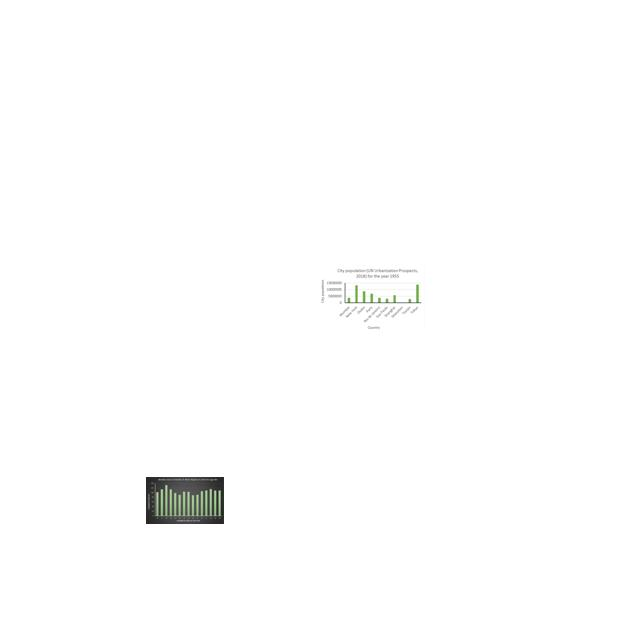Graph: (318, 266, 425, 330), (146, 477, 224, 524)
